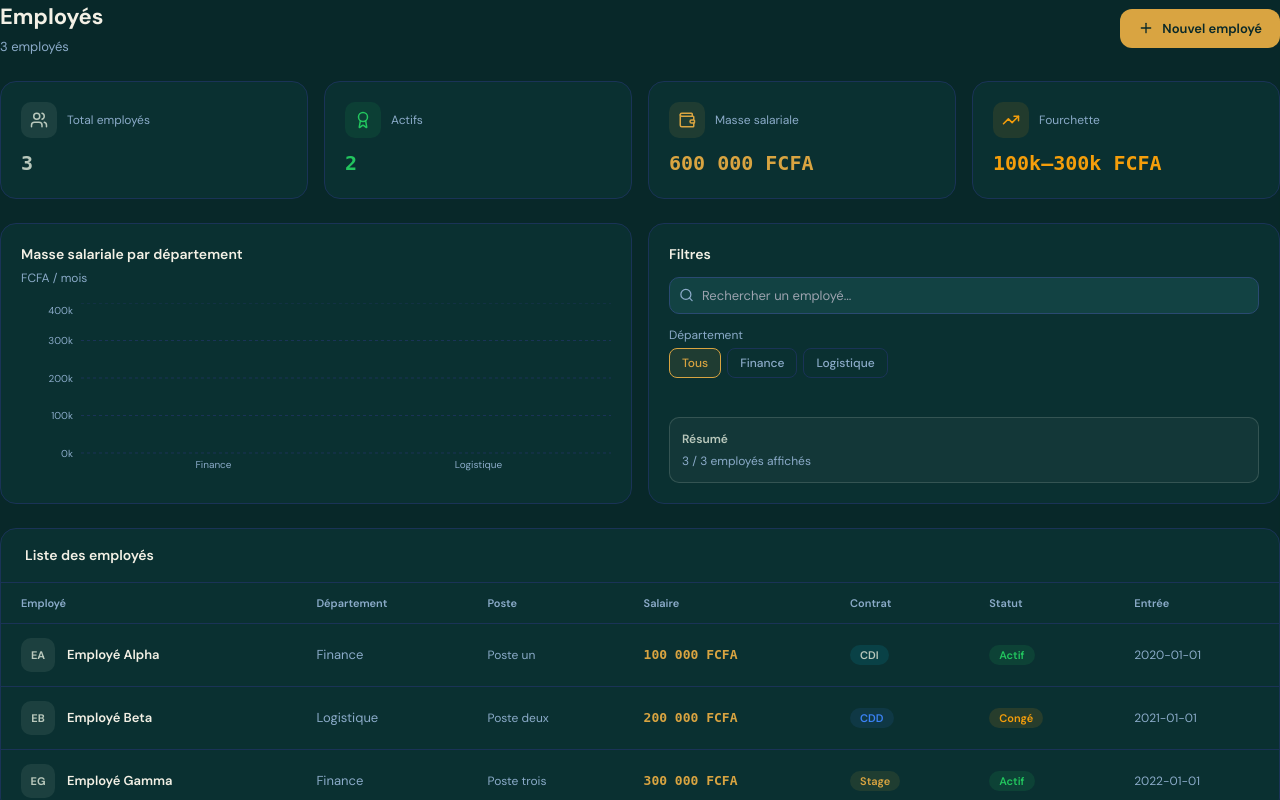
Test: EmployesPage › avec des employés saisis › indique qu'aucun résultat ne correspond à la recherche
Expected: the text "Employé Alpha" is shown, [67,645,160,665]
In the field with placeholder "Rechercher un employé...": (964, 295) [669,276,1259,314], type "xyzinexistant999"
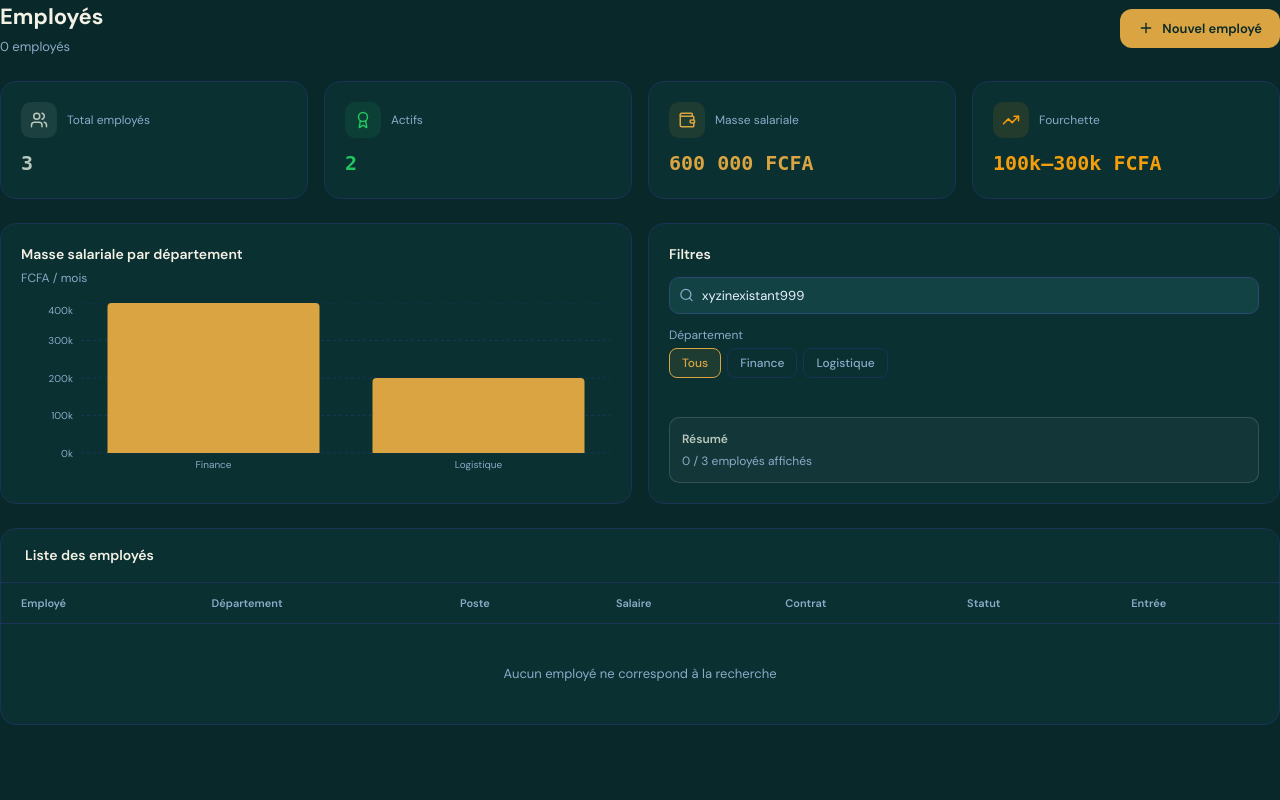
Expected: the text "Aucun employé ne correspond à la recherche" is shown, [1,624,1279,724]
